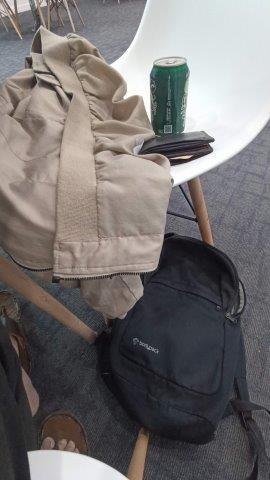kaleng: (150, 57, 190, 137)
